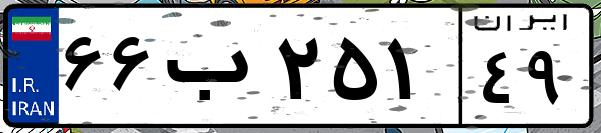1: (385, 28, 445, 110)
2: (270, 28, 330, 110)
4: (475, 38, 525, 113)
5: (330, 28, 385, 110)
6: (57, 26, 110, 100), (110, 28, 158, 98)
9: (525, 38, 570, 115)
ب: (158, 20, 270, 120)
